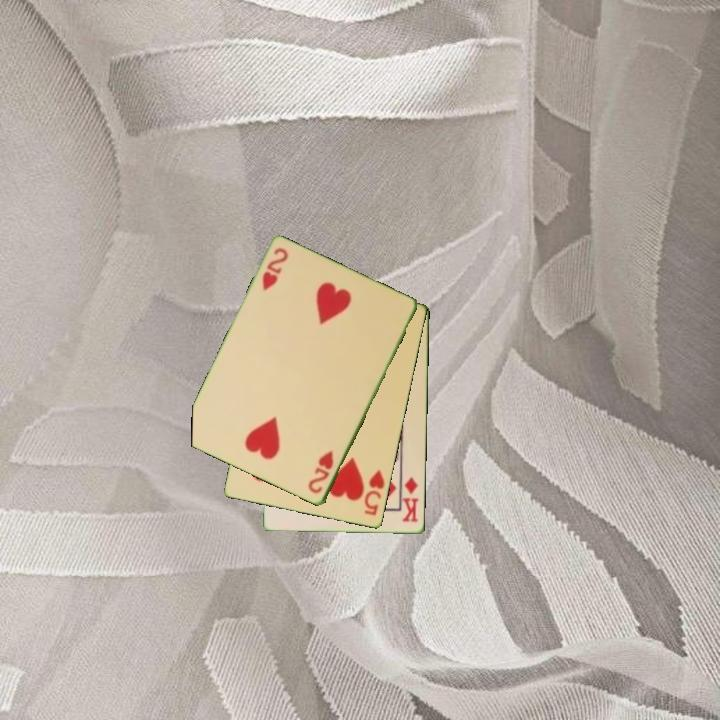2h: (304, 447, 337, 497), (259, 245, 291, 294)
5h: (361, 467, 388, 519)
Kd: (399, 473, 422, 525)
